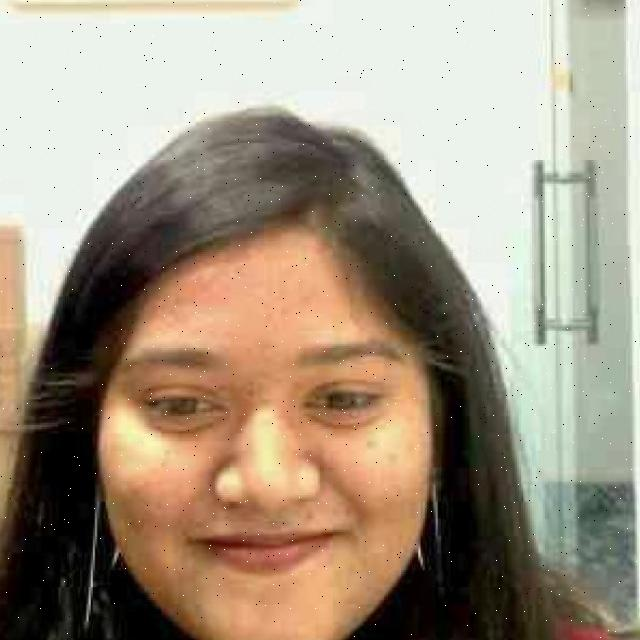puffy_eyes: (299, 401, 378, 430), (146, 416, 223, 431)
